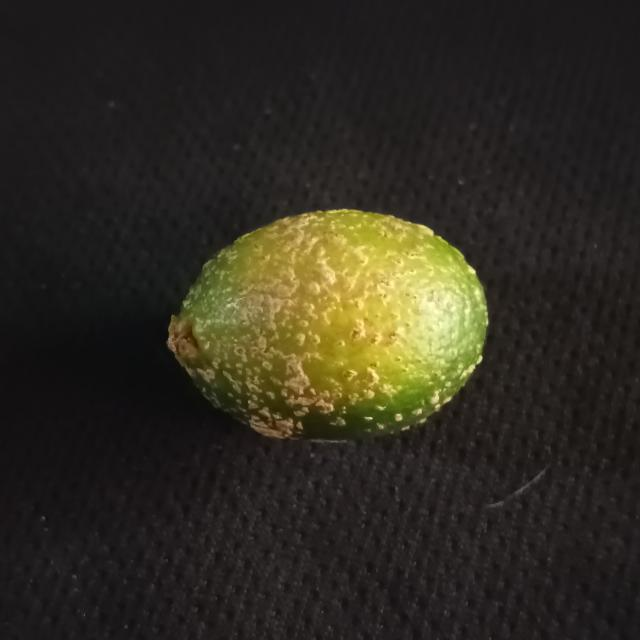scab: (155, 210, 497, 453)
